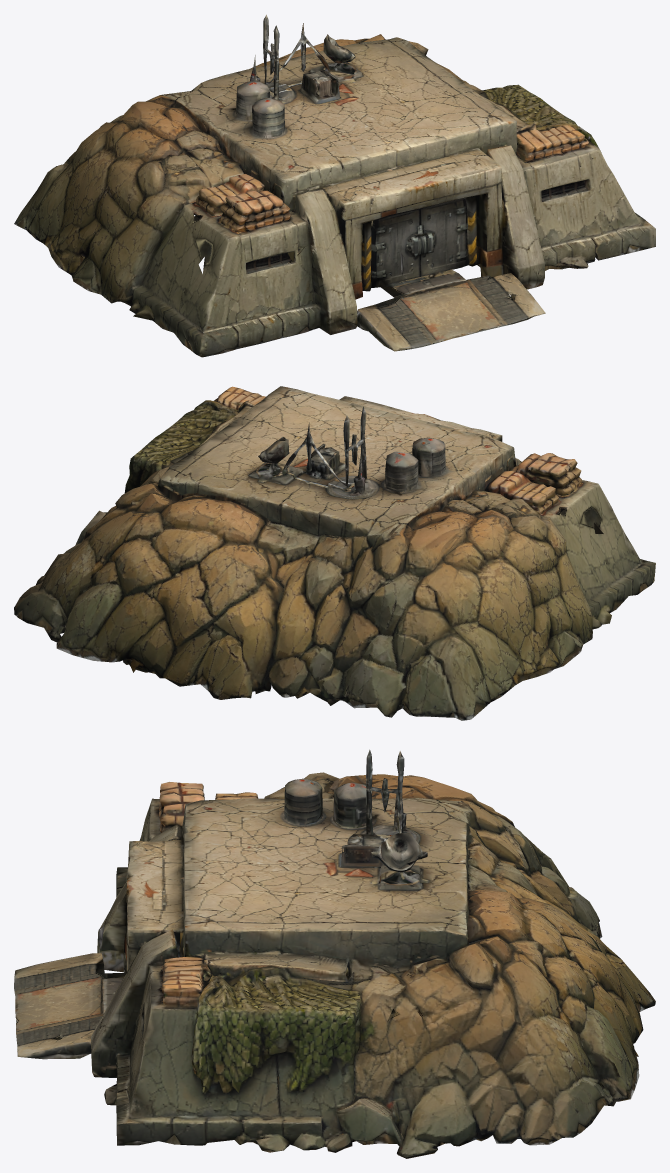
File: EX_Mil_Bunker.fbx
3 views of the same model, one above another, from view 1: azimuth 30°, elevation 25°; view 2: azimuth 150°, elevation 25°; view 3: azimuth 270°, elevation 25° (orthographic). The views are drawn at different scales.
Parts seen in each view (by area): view 1: texture_mapping; view 2: texture_mapping; view 3: texture_mapping.
Boxes of the visible parts, x1,y1,x2,y2 form: texture_mapping: [14, 14, 655, 357]; texture_mapping: [14, 386, 655, 720]; texture_mapping: [14, 749, 655, 1158].
Bounding box in the file's own units: 0.9995 × 0.983 × 0.4246.
1 material, 1 textured.
